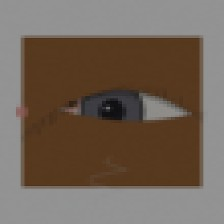foreign_body_visible: (46, 82, 95, 121)
